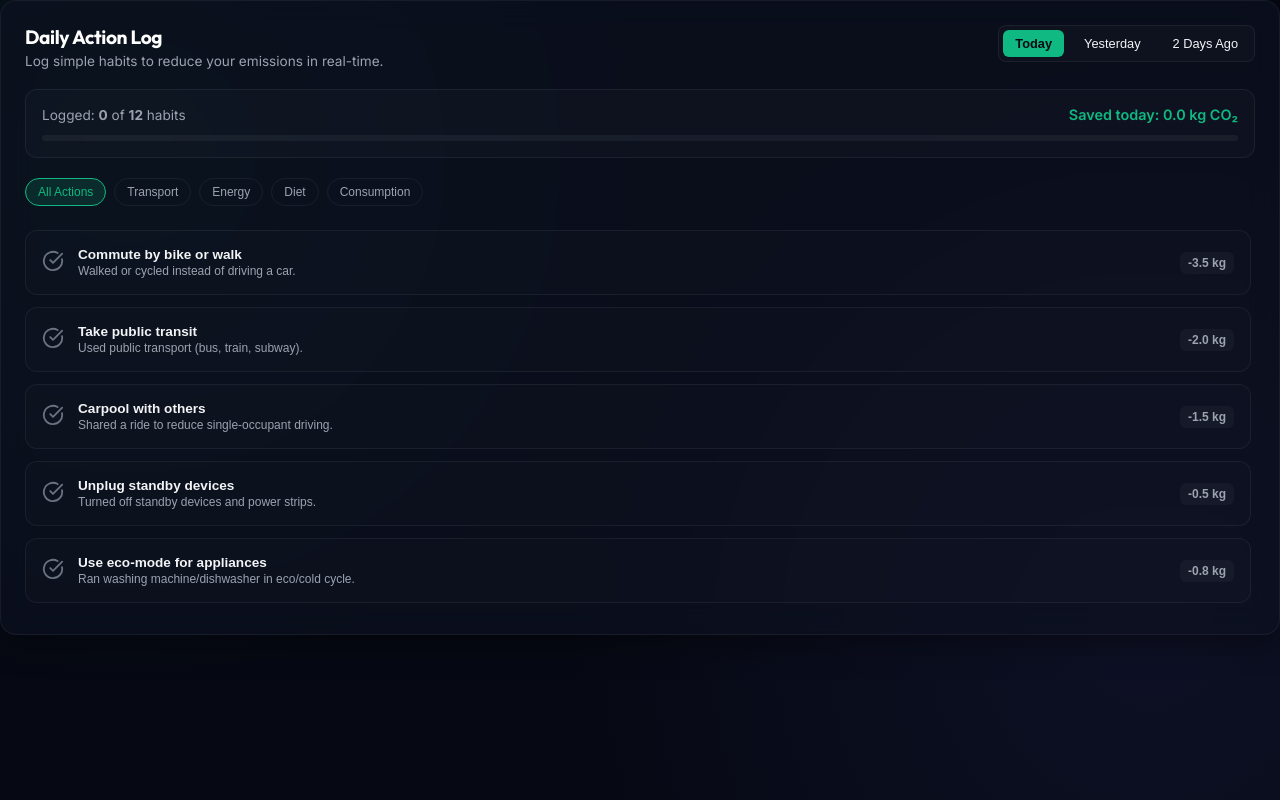
Test: DailyHabitTracker Component › toggles habits completion and updates progress statistics
The width and height of the screenshot is (1280, 800).
Expected: the text "Saved today: 0.0 kg CO₂" is shown, left=1069, top=106, right=1238, bottom=123
Note: Find and click "Commute by bike or walk"
Click the checkbox labelled "Commute by bike or walk" at (160, 254), box left=25, top=230, right=1251, bottom=295
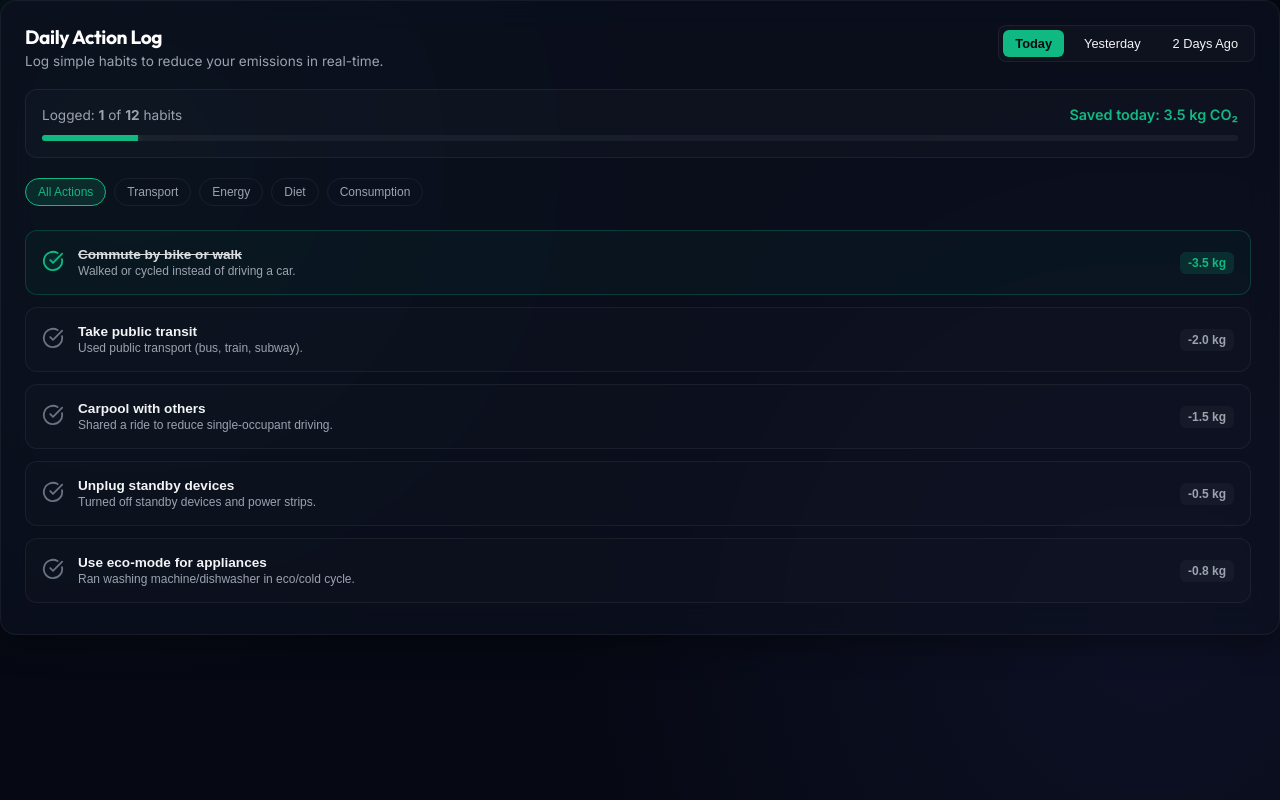
Expected: the text "Saved today: 3.5 kg CO₂" is shown, left=1070, top=106, right=1238, bottom=123
Click the checkbox labelled "Commute by bike or walk" at (160, 254), box left=25, top=230, right=1251, bottom=295
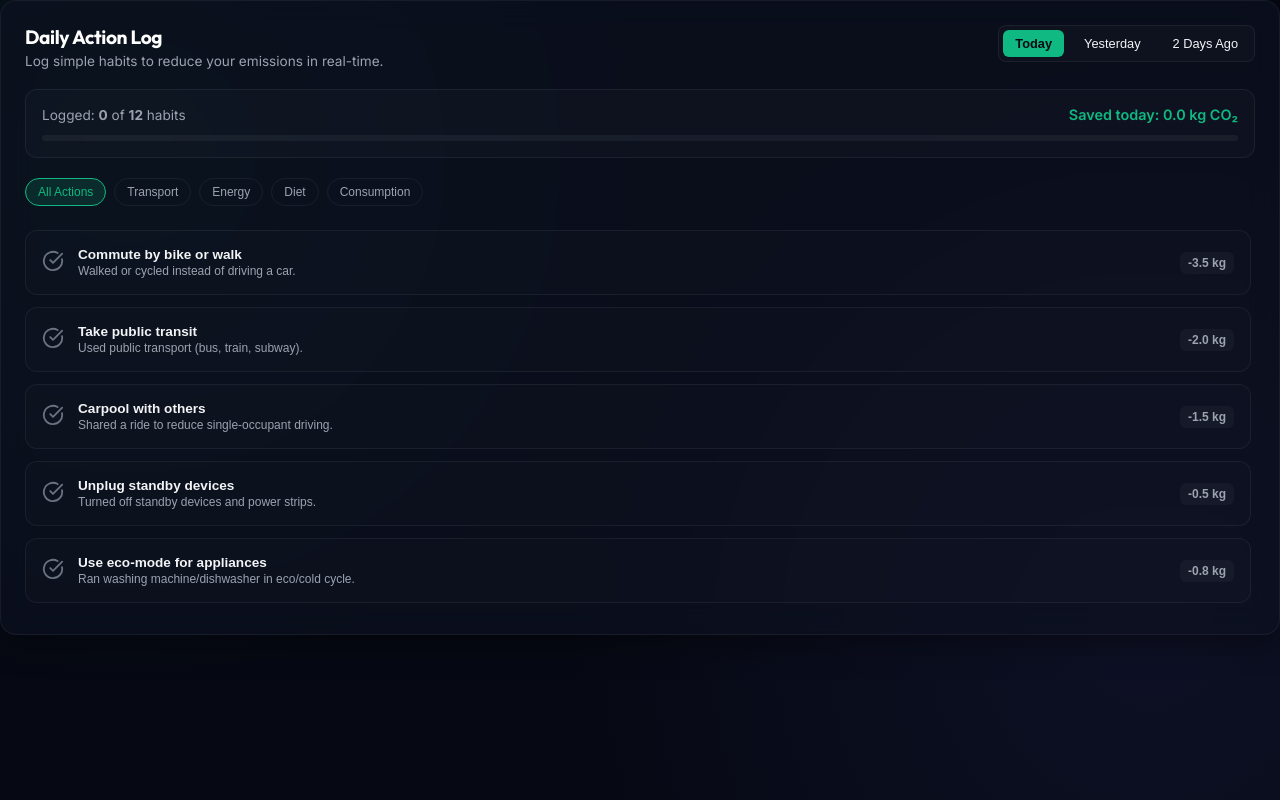
Expected: the text "Saved today: 0.0 kg CO₂" is shown, left=1069, top=106, right=1238, bottom=123
